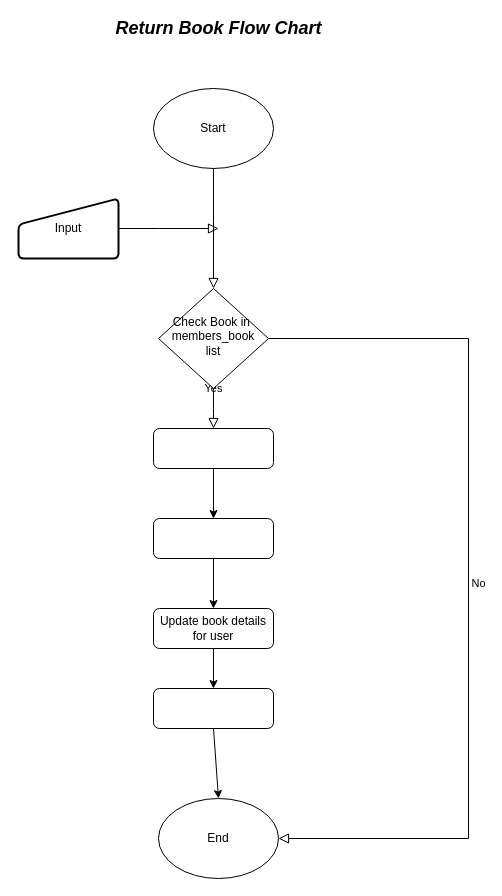
Image size: 502x896. Some labels were removed from this diagram. The shapes that lost their labels are listed below. From the top down, each one's box as (x1, y1, x2, y2) in pixels, then its label:
(152, 428, 274, 468): Get isbn and rack no
(152, 518, 274, 558): add book item to catalog
(152, 688, 274, 728): Book successfully returned
